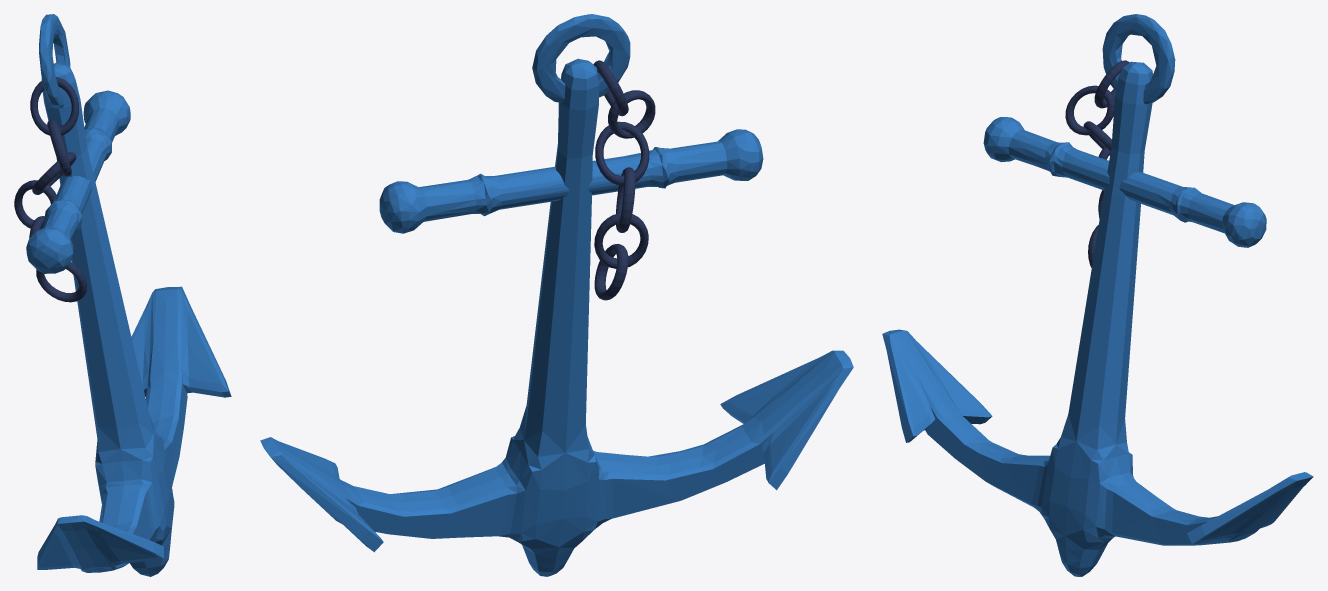
Rendered from Anchor.obj.
3 views of the same model, side by side, from view 1: azimuth 30°, elevation 25°; view 2: azimuth 150°, elevation 25°; view 3: azimuth 270°, elevation 25° (orthographic). The views are drawn at different scales.
Visible parts, largest first — view 1: Anchor., Chain; view 2: Anchor., Chain; view 3: Anchor., Chain.
Boxes of the visible parts, x1,y1,x2,y2 form: Anchor.: (26,14,231,576); Chain: (14,77,86,302); Anchor.: (260,14,853,576); Chain: (593,60,655,300); Anchor.: (882,14,1313,576); Chain: (1065,60,1129,267).
Bounding box in the file's own units: 134 × 213 × 157.
